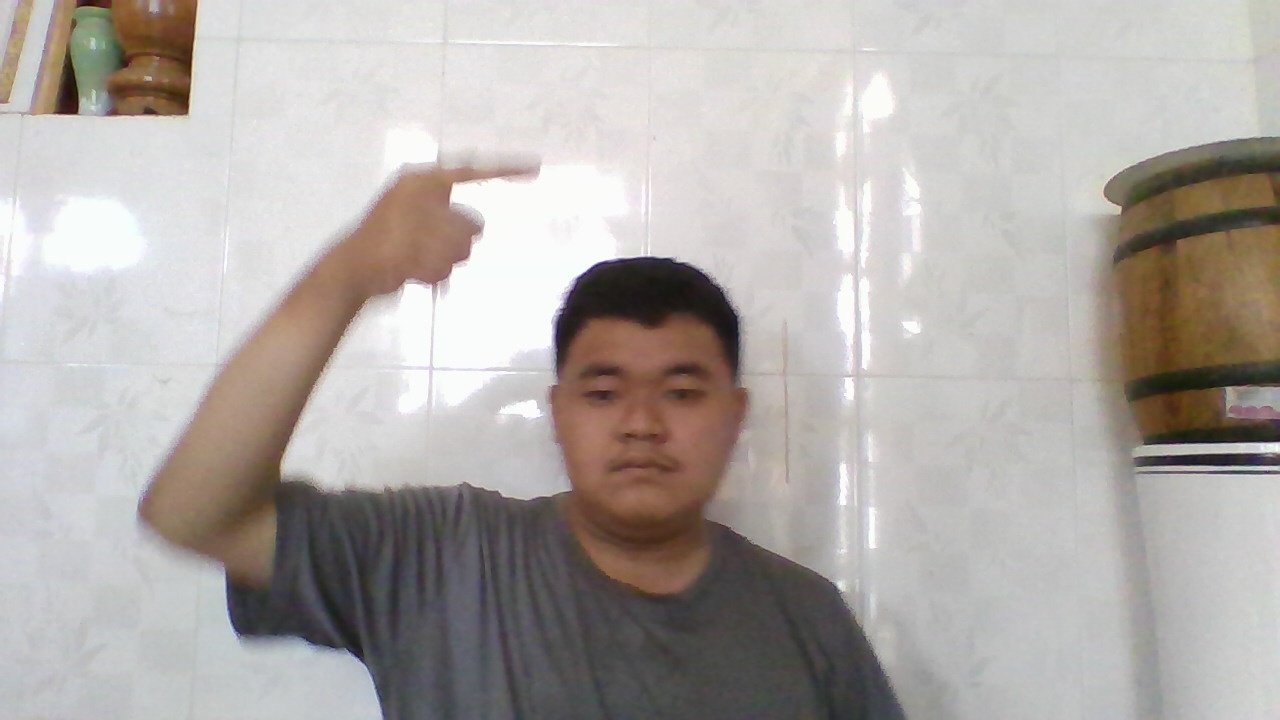G: (332, 154, 521, 292)
